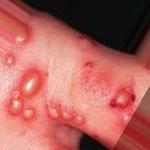Ants: (41, 97, 87, 133), (104, 78, 143, 118), (21, 68, 42, 97), (6, 89, 23, 115), (18, 103, 39, 124), (15, 24, 30, 46), (78, 34, 96, 49), (2, 50, 17, 67), (83, 60, 96, 71)
